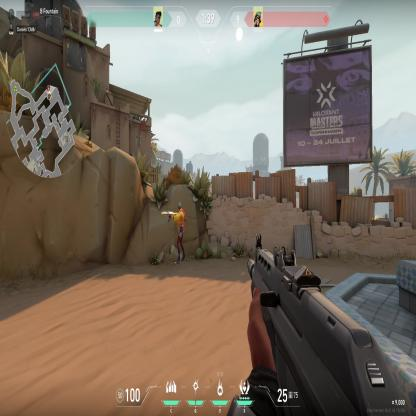enemy: (168, 199, 187, 265)
